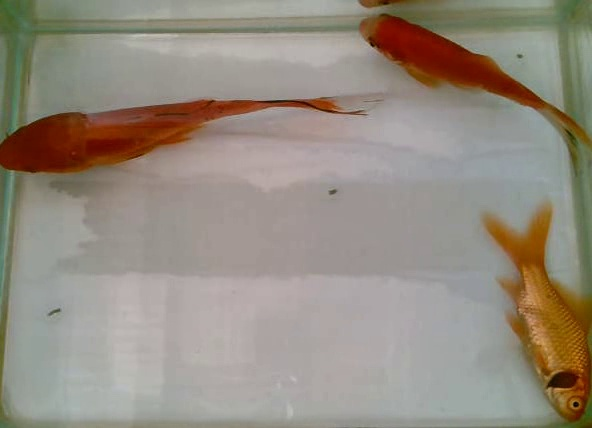alive_fish: (355, 10, 592, 182), (1, 91, 398, 175)
dead_fish: (472, 193, 592, 423)
